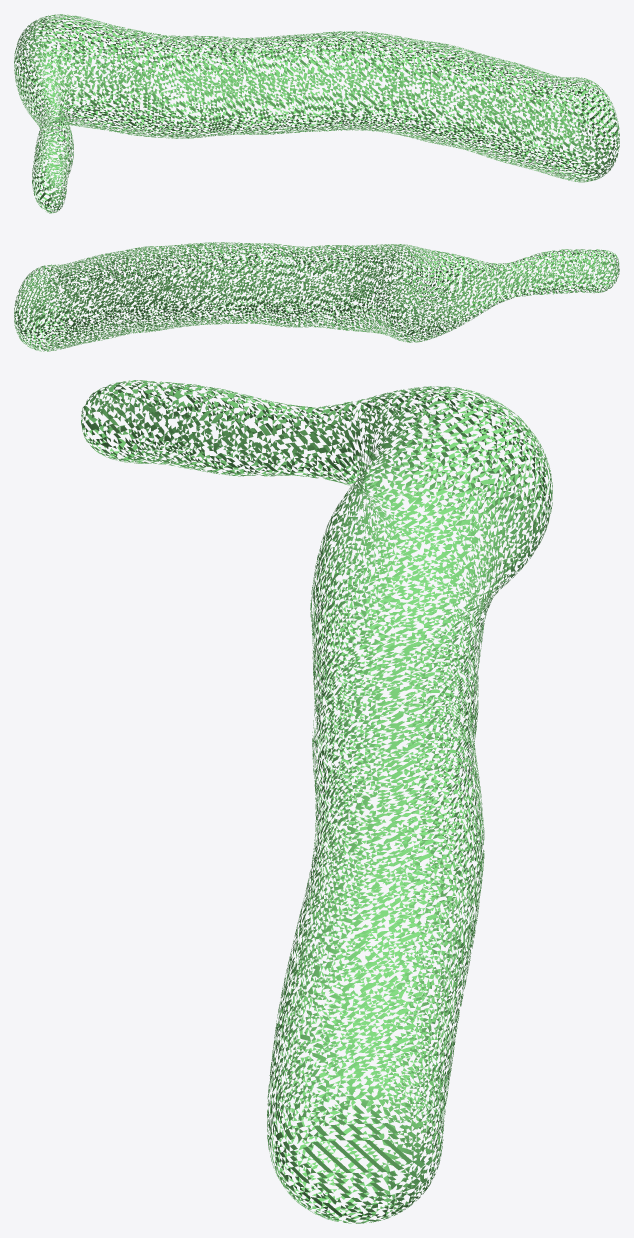
The model's file is morph_017.glb.
3 views of the same model, one above another, from view 1: azimuth 30°, elevation 25°; view 2: azimuth 150°, elevation 25°; view 3: azimuth 270°, elevation 25° (orthographic). The views are drawn at different scales.
Size of the model in its own units: 152 by 57.95 by 58.72.
